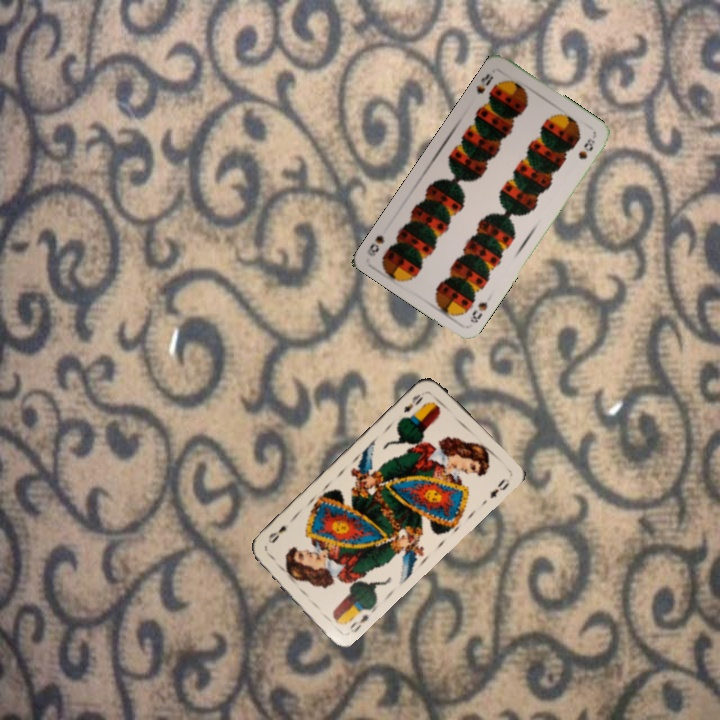EO: (344, 604, 377, 635), (399, 390, 426, 415)
S8: (465, 298, 490, 326), (472, 69, 496, 97)
